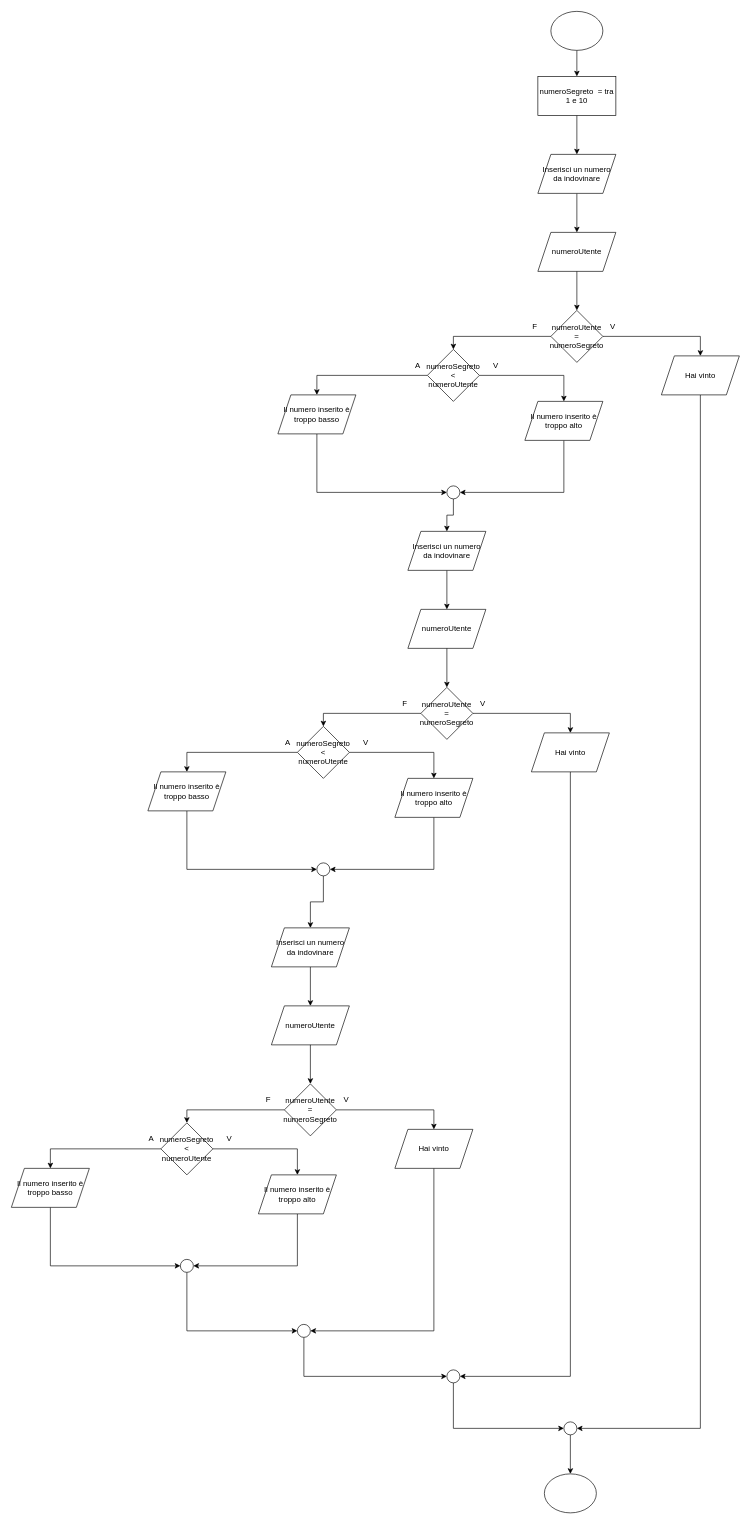
Image size: 751x1524. Some labels were removed from this diagram. The shapes that lost their labels are listed below. From the top down, each one's centre as x and y in pixels, then its label:
At pixel 576 30: "Start".
At pixel 570 1493: "End".
